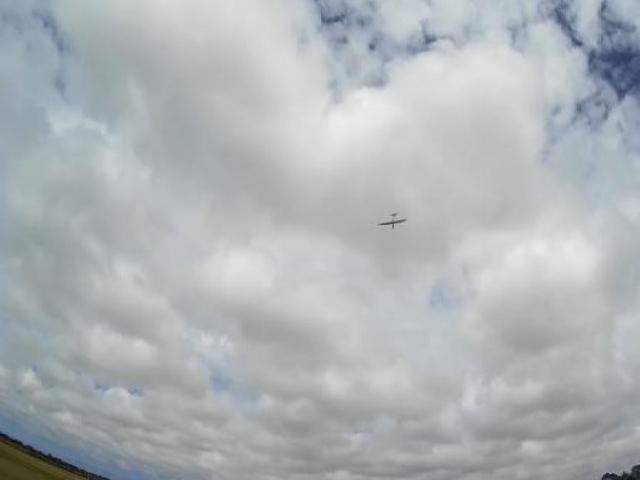uav: (372, 197, 413, 238)
